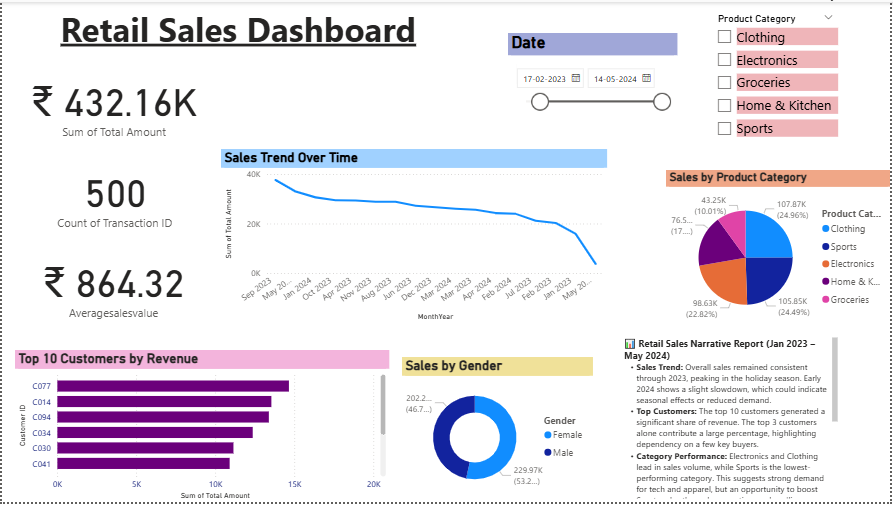

The page's visual inventory and layout, read from the dashboard file:
{"tool":"powerbi","page":{"name":"Page 1","canvas":[1280,720],"ordinal":0},"visuals":[{"type":"card","fields":{"Values":["Sum(Sheet1.Total Amount)"]},"box":[35.3,89,253.6,117.6],"z":0},{"type":"card","fields":{"Values":["CountNonNull(Sheet1.Transaction ID)"]},"box":[43.7,220.1,238.5,117.6],"z":1000},{"type":"card","fields":{"Values":["Sheet1.Averagesalesvalue"]},"box":[43.7,344.4,235.2,131],"z":2000},{"type":"lineChart","title":"Sales Trend Over Time","fields":{"Y":["Sum(Sheet1.Total Amount Hierarchy.Total Amount)"],"Category":["Sheet1.MonthYear"]},"box":[315.8,211.7,556,252],"z":3000},{"type":"pieChart","title":"Sales by Product Category","fields":{"Category":["Sheet1.Product Category"],"Y":["Sum(Sheet1.Total Amount)"]},"box":[955.8,241.9,324.2,233.5],"z":4000},{"type":"donutChart","title":"Sales by Gender","fields":{"Category":["Sheet1.Gender"],"Y":["Sum(Sheet1.Total Amount)"]},"box":[576.2,510.7,275.5,210],"z":5000},{"type":"clusteredBarChart","title":"Top 10 Customers by Revenue","fields":{"Category":["Sheet1.Customer ID"],"Y":["Sum(Sheet1.Total Amount)"]},"box":[18.5,500.6,539.2,220.1],"z":6000},{"type":"slicer","title":"Date","fields":{"Values":["Sheet1.Date"]},"box":[729,45.4,243.6,112.5],"z":7000},{"type":"slicer","fields":{"Values":["Sheet1.Product Category"]},"box":[1018,10.1,191.5,210],"z":8000},{"type":"textbox","box":[892,478.7,317.5,241.9],"z":9000},{"type":"textbox","box":[79,0,561,89],"z":11000}]}

Visuals, with their boxes in screenshot pixels (x1, y1, x2, y2), scaled from the page's 1280x720 canvas onto the 893x506 screenshot:
card - Sum(Sheet1.Total Amount): <box>25,63,202,145</box>
card - CountNonNull(Sheet1.Transaction ID): <box>30,155,197,237</box>
card - Sheet1.Averagesalesvalue: <box>30,242,195,334</box>
"Sales Trend Over Time" lineChart: <box>220,149,608,326</box>
"Sales by Product Category" pieChart: <box>667,170,892,334</box>
"Sales by Gender" donutChart: <box>402,359,594,505</box>
"Top 10 Customers by Revenue" clusteredBarChart: <box>13,352,389,505</box>
"Date" slicer: <box>509,32,679,111</box>
slicer - Sheet1.Product Category: <box>710,7,844,155</box>
textbox: <box>622,336,844,505</box>
textbox: <box>55,0,446,63</box>
